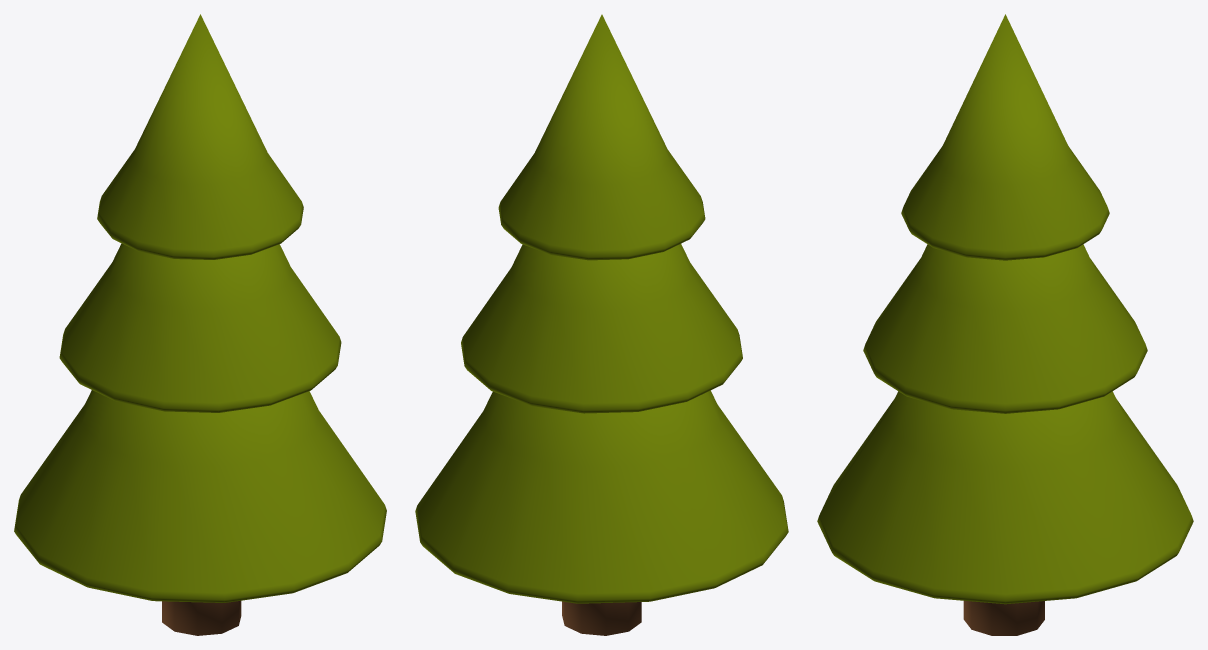
File: arbre.fbx
The picture shows the model from 3 angles, left to right: view 1: azimuth 30°, elevation 25°; view 2: azimuth 150°, elevation 25°; view 3: azimuth 270°, elevation 25°; orthographic projection.
Parts seen in each view (by area): view 1: Cylinder.001; view 2: Cylinder.001; view 3: Cylinder.001.
Part boxes in pixels (x1=…): Cylinder.001: x1=14, y1=14, x2=386, y2=635; Cylinder.001: x1=415, y1=14, x2=788, y2=635; Cylinder.001: x1=817, y1=14, x2=1193, y2=635.
Bounding box in the file's own units: 118 × 209 × 118.
